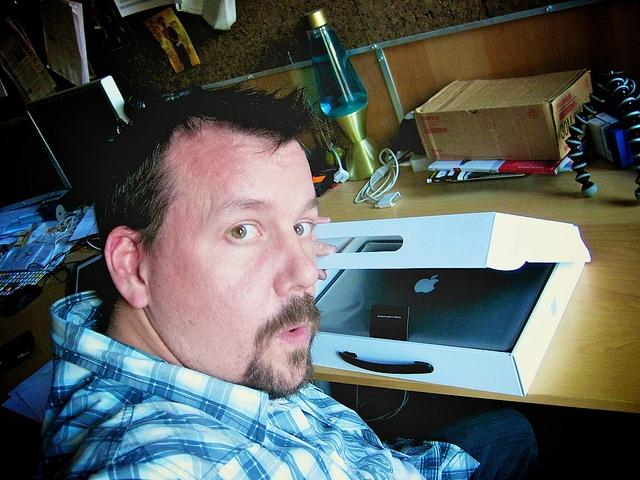apple: (414, 274, 439, 292)
